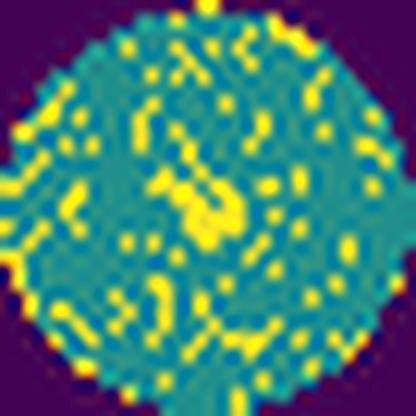Center: (143, 113, 252, 257)
